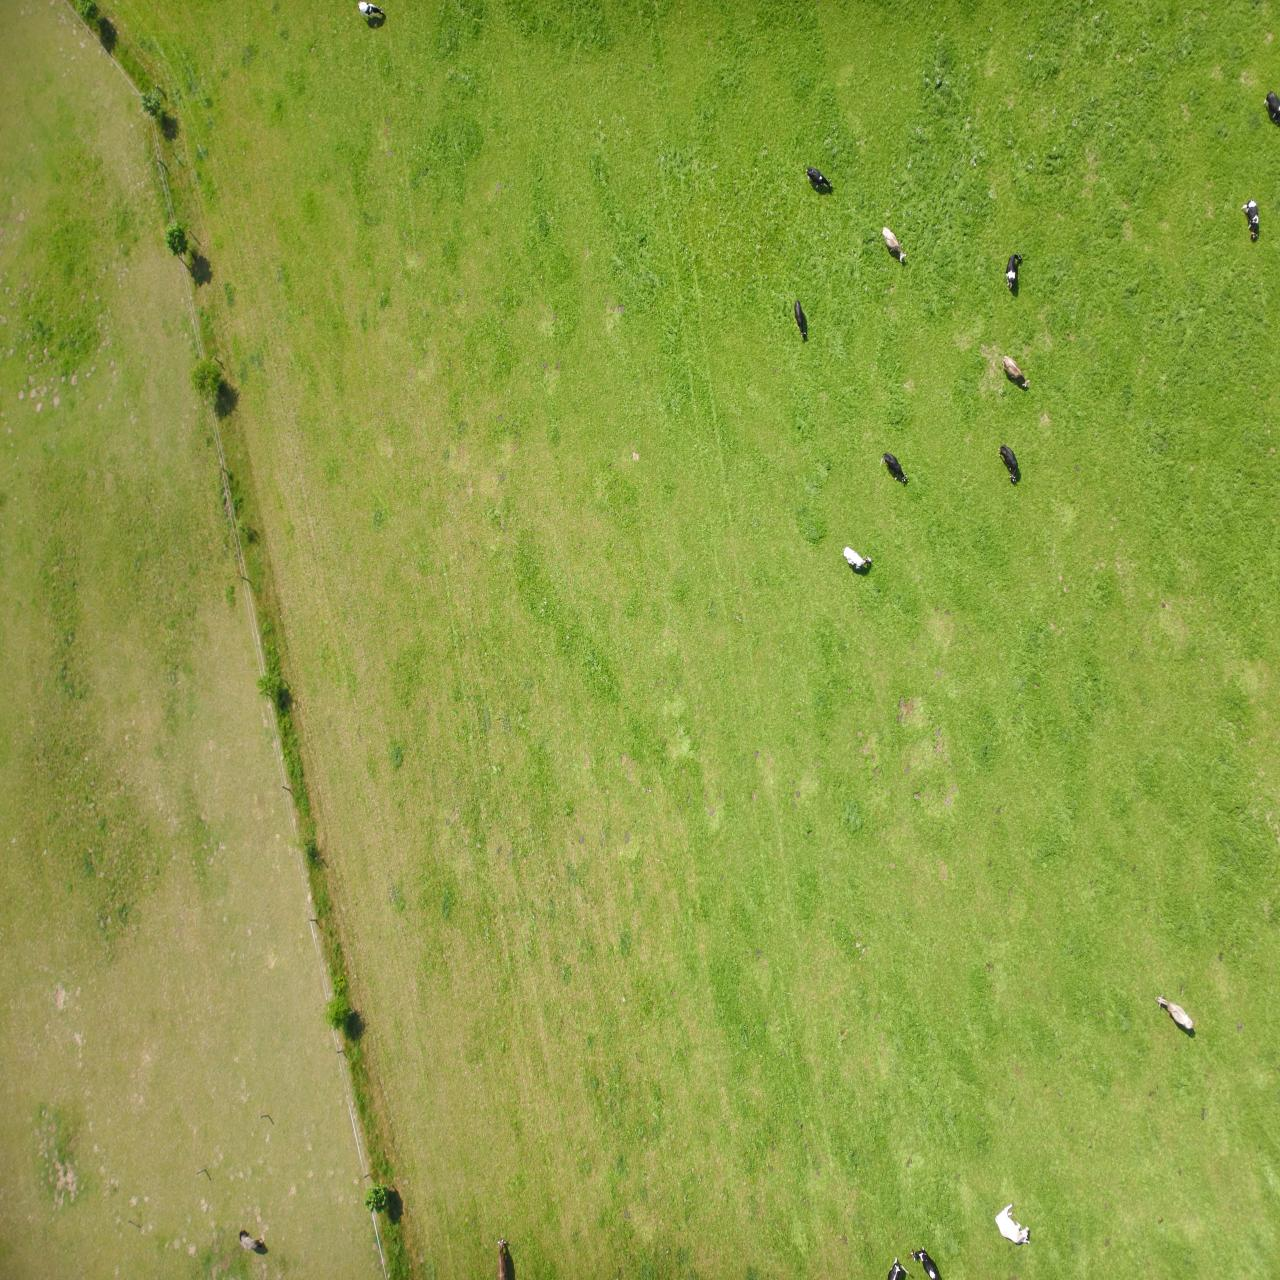cow: (250, 34, 285, 77), (87, 251, 124, 286), (250, 890, 279, 925), (373, 1016, 397, 1053), (373, 797, 400, 828), (21, 1037, 39, 1082), (408, 709, 437, 735), (261, 795, 280, 835), (448, 1090, 475, 1114), (258, 992, 274, 1027), (474, 942, 485, 980)
